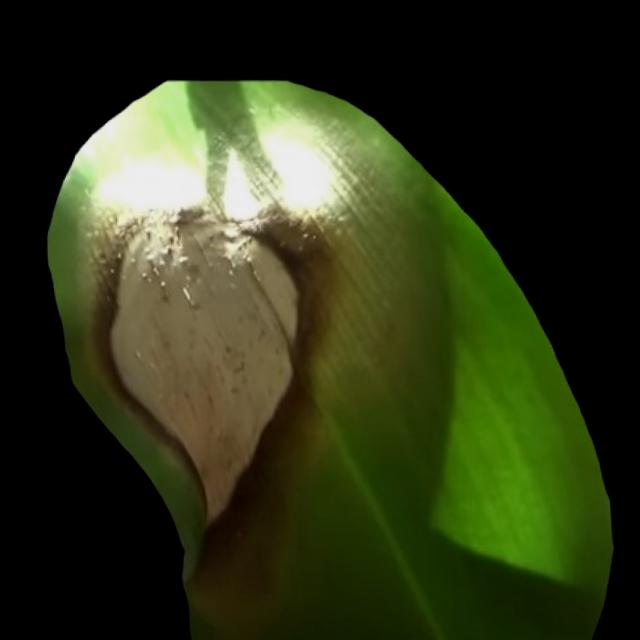mite: (194, 96, 350, 223), (185, 78, 289, 219), (141, 249, 207, 309)
spots: (35, 72, 622, 640)
sunburn: (77, 194, 346, 531)
